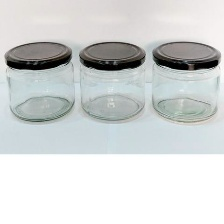bottle: (149, 38, 223, 127), (2, 39, 77, 125), (76, 39, 148, 124)
